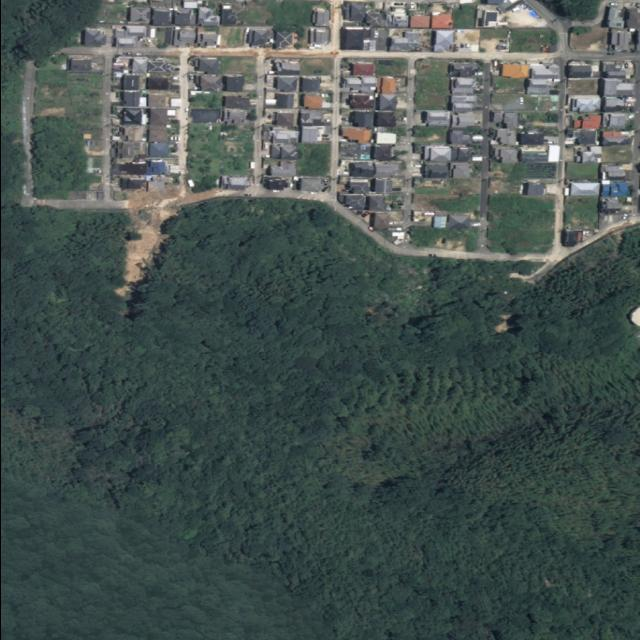landslide: (113, 203, 176, 295)
